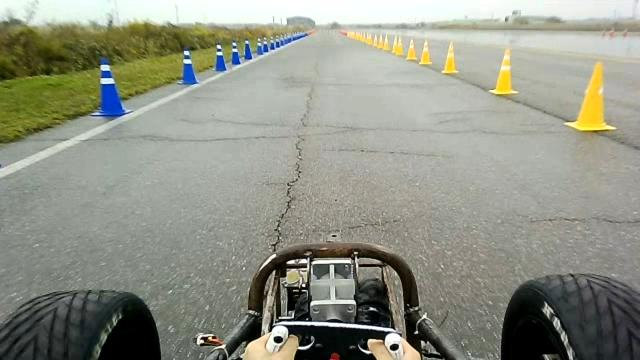blue cone: (90, 56, 132, 118), (176, 46, 199, 85), (213, 43, 227, 71), (230, 39, 241, 65), (244, 38, 252, 60), (256, 37, 264, 55), (262, 41, 269, 53), (270, 36, 276, 50)
yellow cone: (564, 61, 616, 132), (488, 47, 518, 95), (441, 40, 459, 74), (419, 39, 432, 65), (405, 38, 417, 61), (395, 36, 404, 56)
